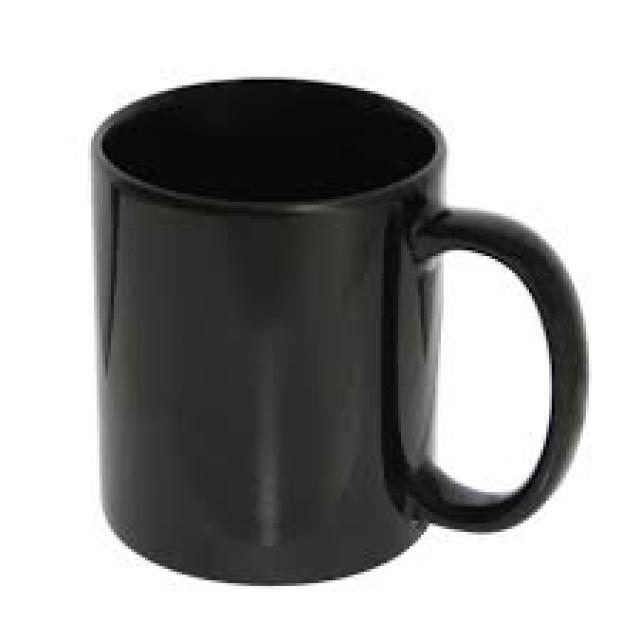Coffee Mug: (90, 76, 588, 585)
